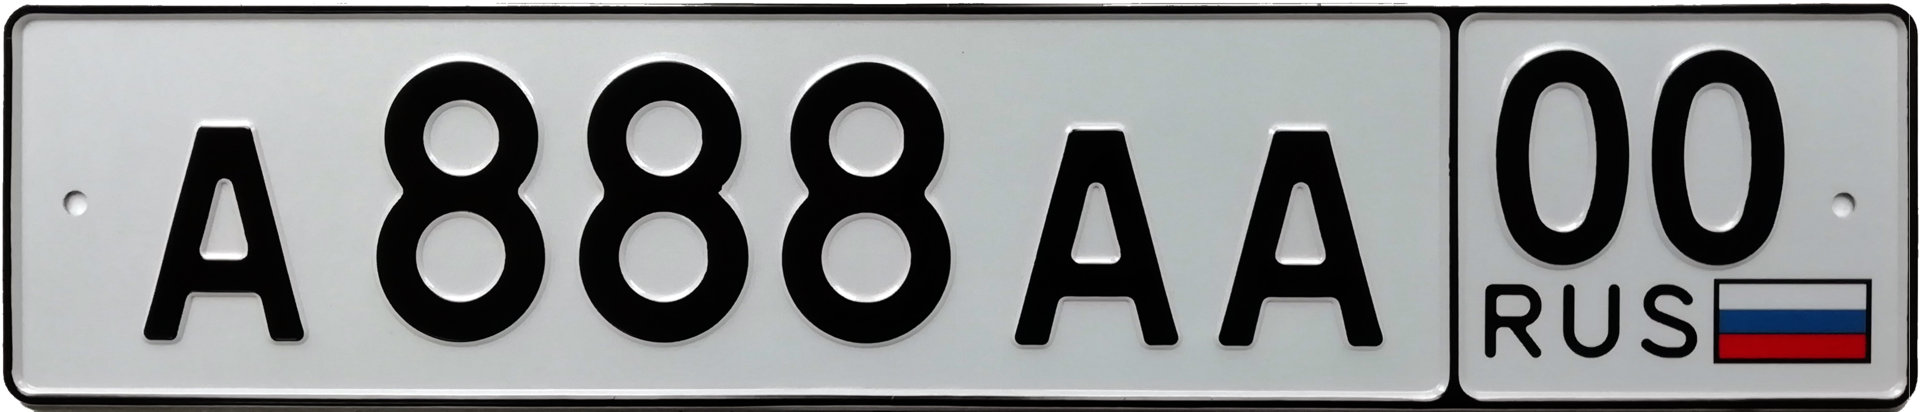number_plate: (20, 17, 1898, 386)
